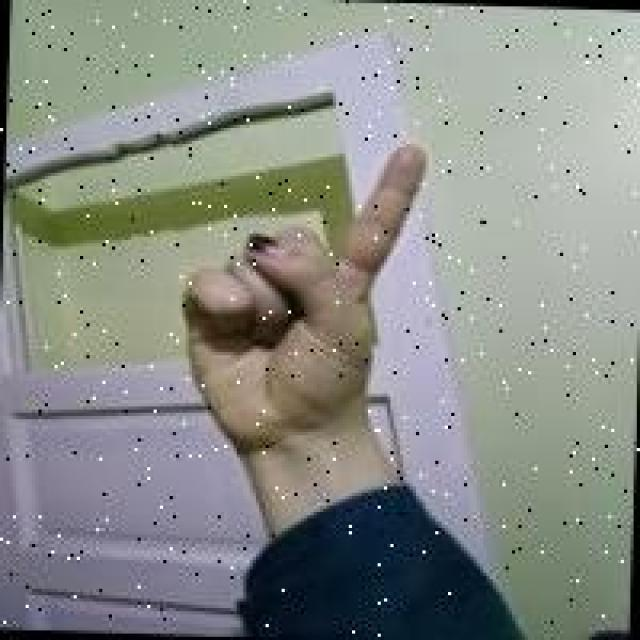Z: (164, 125, 433, 454)
